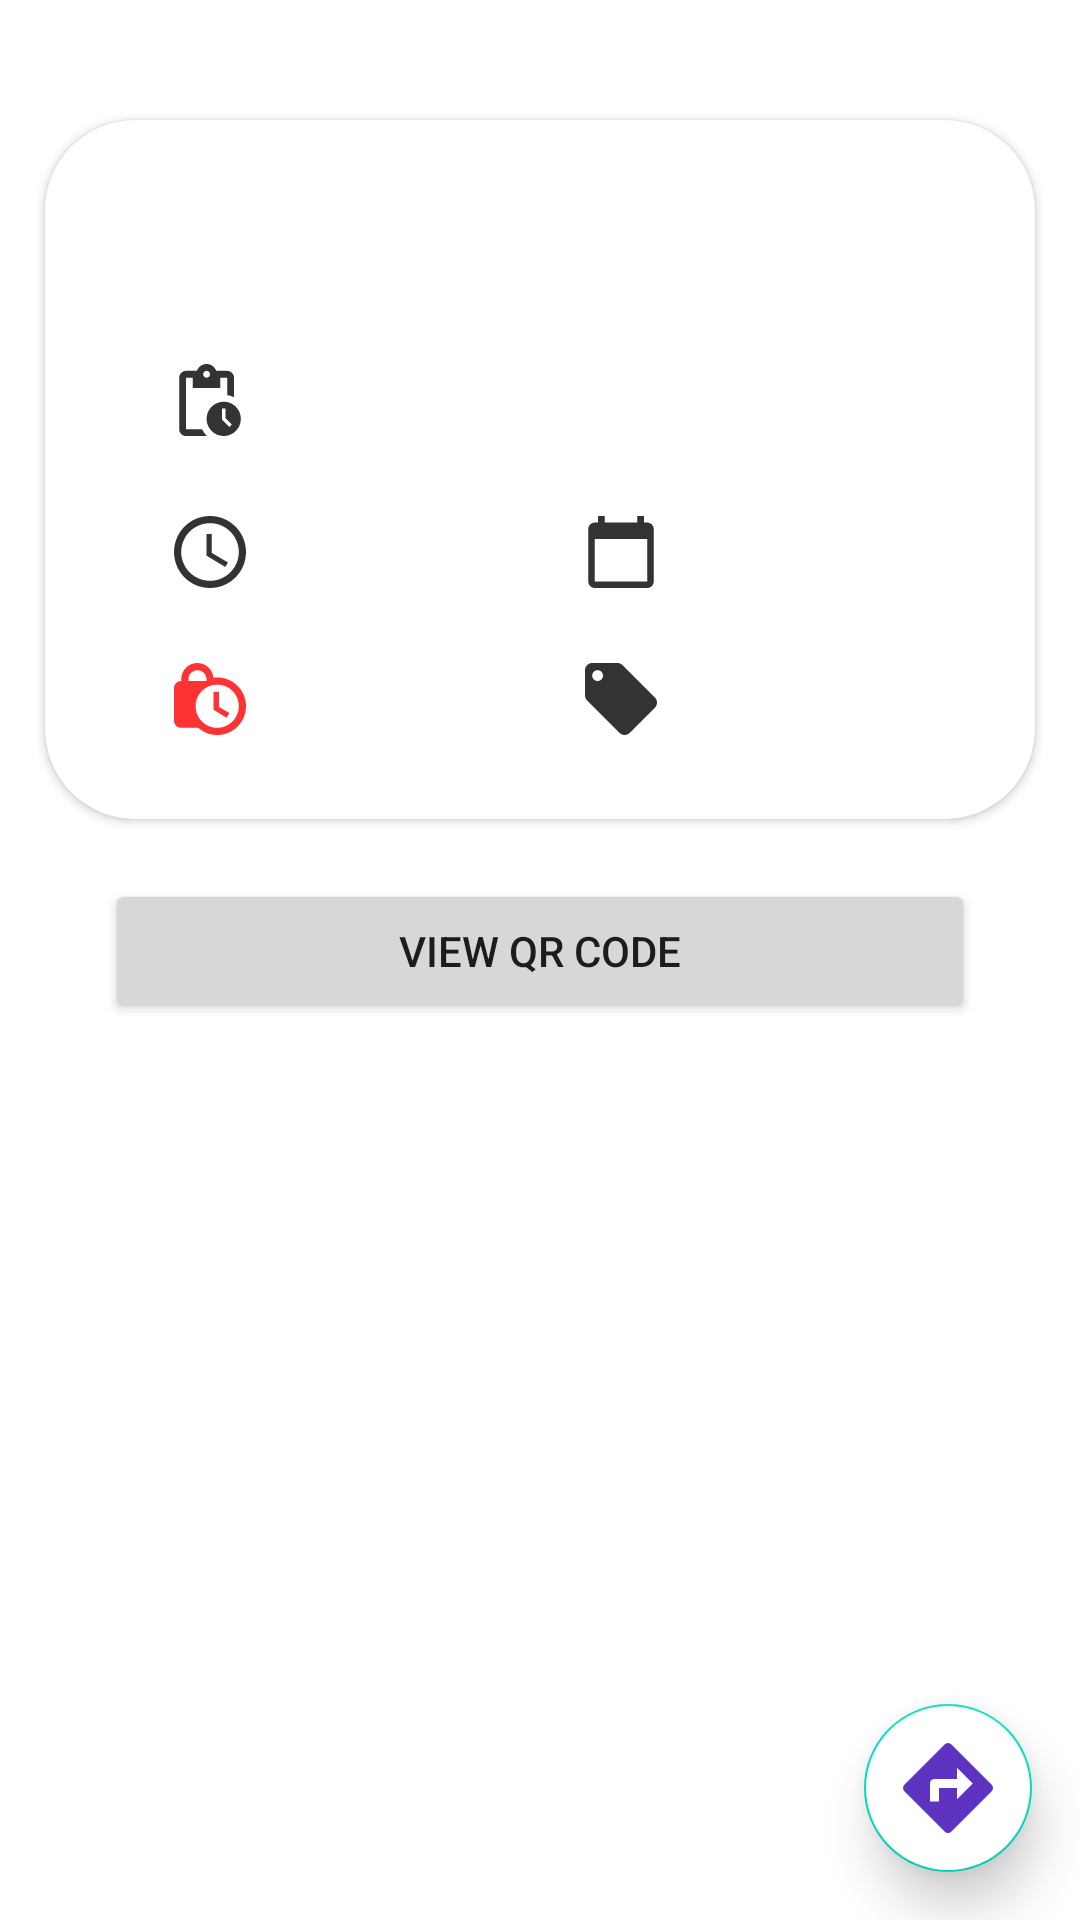

Where icons sit on this 1080px×1920px app screen, as {"left": x1, "top": y1, "right": x2, "bottom": y2}:
directions: {"left": 903, "top": 1743, "right": 993, "bottom": 1833}
